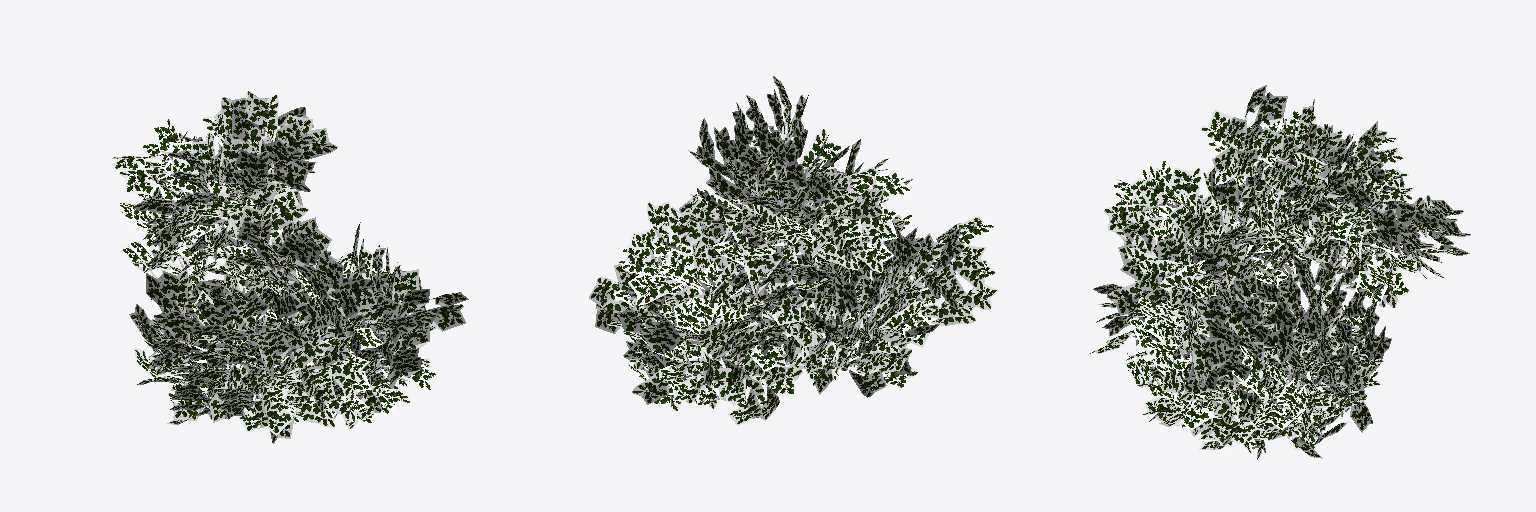
3 renders of one model, left to right at view 1: azimuth 30°, elevation 25°; view 2: azimuth 150°, elevation 25°; view 3: azimuth 270°, elevation 25°, orthographic.
Visible parts, largest first — view 1: Baum_1_Cube.005; view 2: Baum_1_Cube.005; view 3: Baum_1_Cube.005.
Part boxes in pixels (left/top/right/bottom): Baum_1_Cube.005: left=112, top=91, right=468, bottom=443; Baum_1_Cube.005: left=589, top=76, right=998, bottom=425; Baum_1_Cube.005: left=1090, top=85, right=1470, bottom=459.
Size of the model in its own units: 8.08 by 7.62 by 7.79.
1 materials, 1 textured.